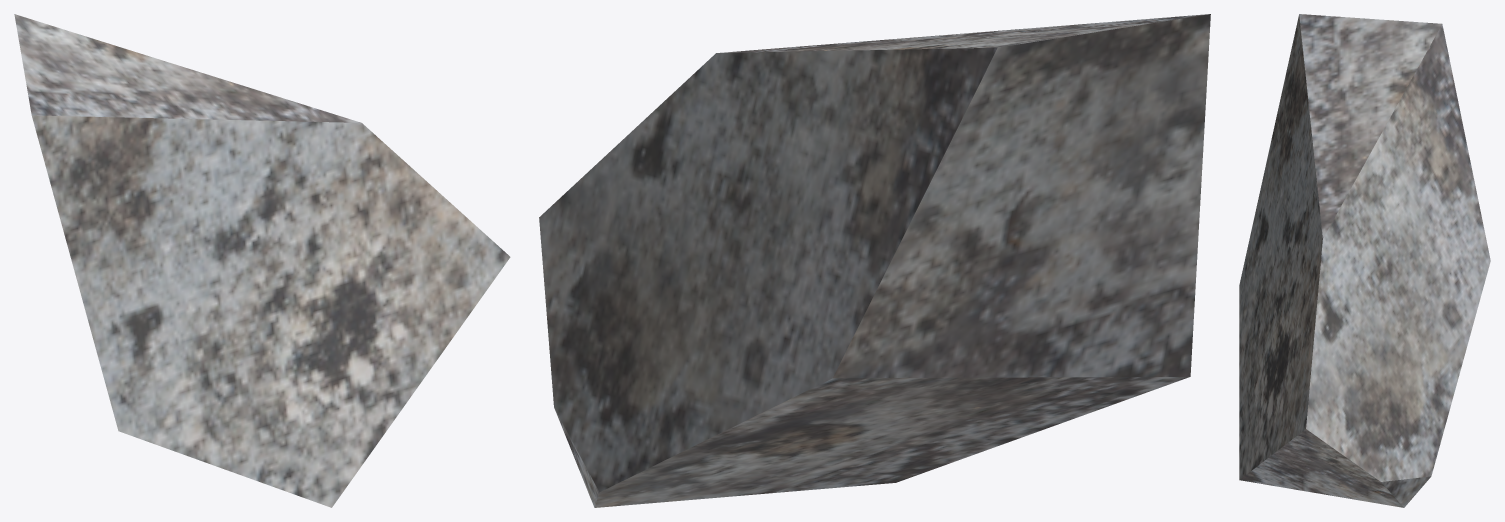
Rendered from Asteroid_Large_001_02_012_03_022.fbx.
3 views of the same model, side by side, from view 1: azimuth 30°, elevation 25°; view 2: azimuth 150°, elevation 25°; view 3: azimuth 270°, elevation 25° (orthographic). The views are drawn at different scales.
Parts seen in each view (by area): view 1: Asteroid_Large_001_02_012_03_022; view 2: Asteroid_Large_001_02_012_03_022; view 3: Asteroid_Large_001_02_012_03_022.
Boxes of the visible parts, bbox=[...] form: Asteroid_Large_001_02_012_03_022: bbox=[14, 14, 510, 507]; Asteroid_Large_001_02_012_03_022: bbox=[539, 14, 1210, 507]; Asteroid_Large_001_02_012_03_022: bbox=[1239, 14, 1490, 507].
Bounding box in the file's own units: 7.57 × 6.78 × 4.1.
